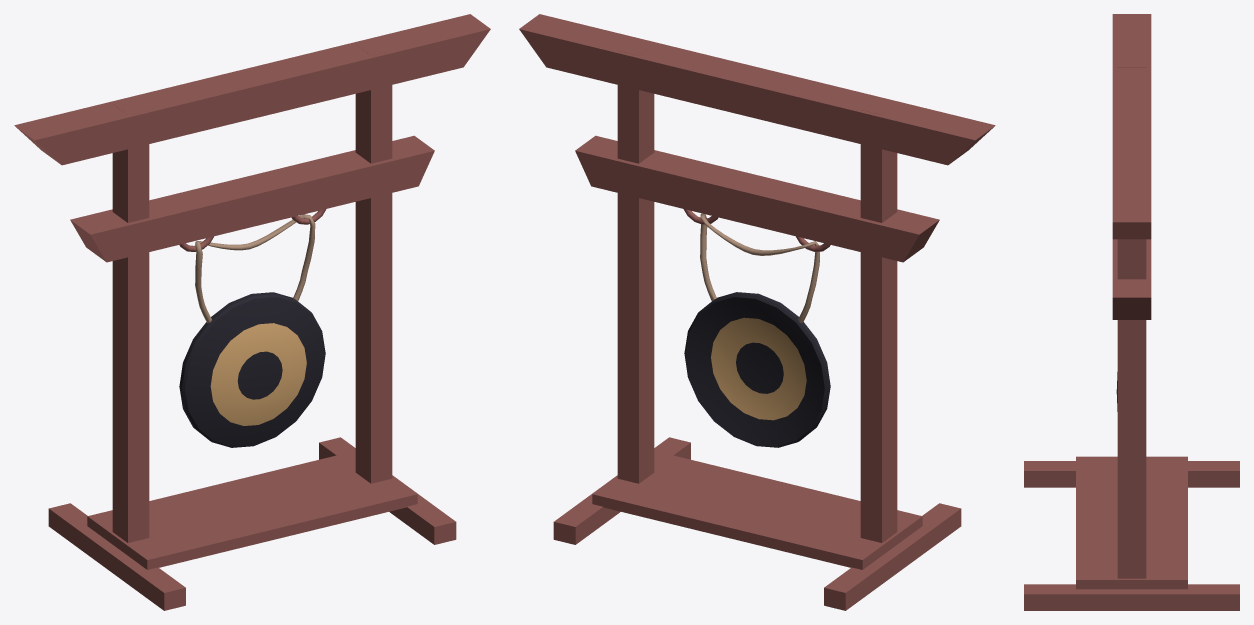
The model's file is Gong.fbx.
3 renders of one model, left to right at view 1: azimuth 30°, elevation 25°; view 2: azimuth 150°, elevation 25°; view 3: azimuth 270°, elevation 25°, orthographic. The views are drawn at different scales.
Parts seen in each view (by area): view 1: Bovenstuk_boven, Platform, Gong1, Bovenstuk_onder, Paal_rechts, Paal_links, Voetstuk_rechts, Voetstuk_Links, Touw; view 2: Bovenstuk_boven, Platform, Gong1, Bovenstuk_onder, Paal_rechts, Paal_links, Voetstuk_rechts, Voetstuk_Links, Touw; view 3: Platform, Paal_links, Bovenstuk_boven, Voetstuk_Links, Voetstuk_rechts, Bovenstuk_onder, Paal_rechts.
Part boxes in pixels (x1,y1,x2,y2): Bovenstuk_boven: [14, 14, 490, 165]; Platform: [87, 451, 417, 569]; Gong1: [179, 292, 325, 447]; Bovenstuk_onder: [70, 135, 434, 262]; Paal_rechts: [112, 98, 149, 542]; Paal_links: [355, 39, 392, 483]; Voetstuk_rechts: [48, 503, 185, 610]; Voetstuk_Links: [319, 437, 456, 544]; Touw: [195, 214, 315, 323]; Bovenstuk_boven: [519, 14, 995, 165]; Platform: [592, 451, 922, 569]; Gong1: [684, 292, 830, 447]; Bovenstuk_onder: [575, 135, 939, 262]; Paal_rechts: [860, 98, 897, 542]; Paal_links: [617, 39, 654, 483]; Voetstuk_rechts: [824, 503, 961, 610]; Voetstuk_Links: [553, 437, 690, 544]; Touw: [700, 213, 819, 323]; Platform: [1076, 456, 1187, 589]; Paal_links: [1117, 168, 1146, 578]; Bovenstuk_boven: [1112, 14, 1151, 239]; Voetstuk_Links: [1024, 584, 1239, 610]; Voetstuk_rechts: [1024, 461, 1239, 487]; Bovenstuk_onder: [1112, 239, 1151, 319]; Paal_rechts: [1117, 57, 1146, 67].
Bounding box in the file's own units: 5.34 × 5.1 × 2.34.
